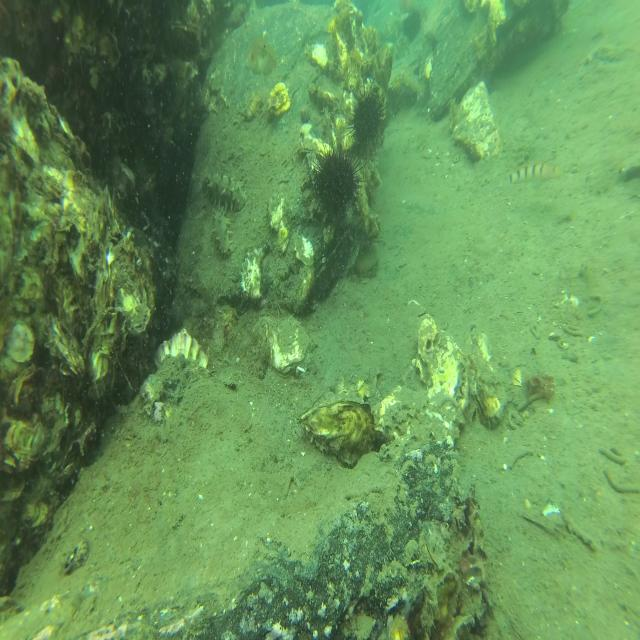echinus: (309, 144, 363, 228), (346, 84, 387, 152)
holothurian: (202, 169, 249, 216), (212, 212, 236, 262)
